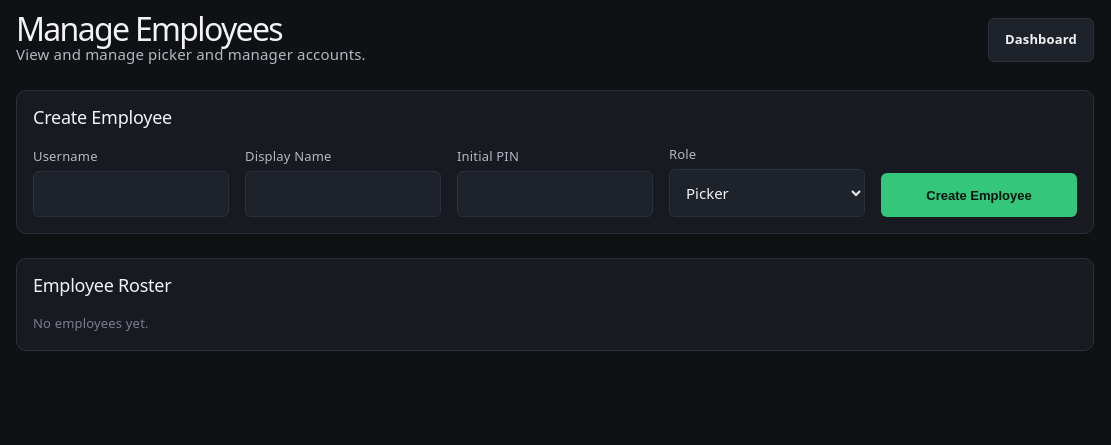
Test: AdminPage › creates a new employee and refreshes the roster to include it
Expected: the text "No employees yet." is shown, x1=33 y1=314 x2=149 y2=332
Type "newpicker" into the field labelled "Username" at (131, 194), box x1=33 y1=172 x2=229 y2=218
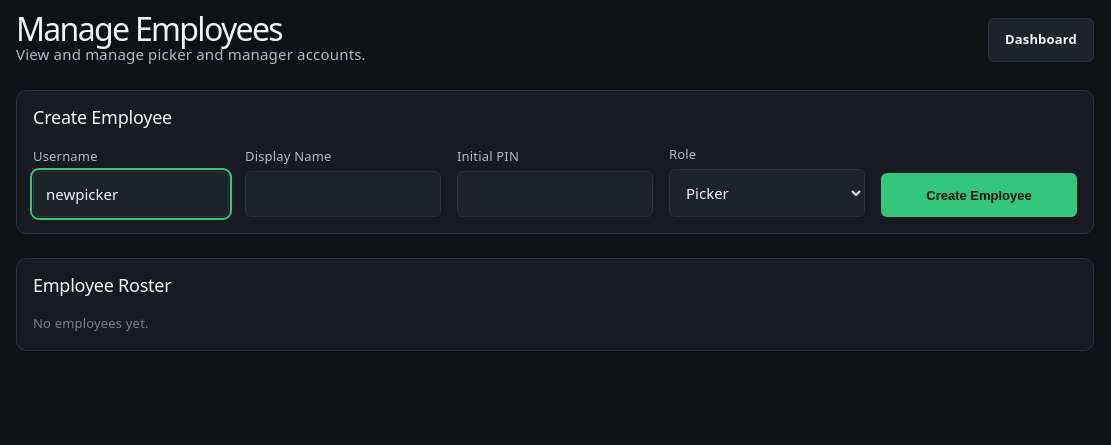
Type "New Picker" into the field labelled "Display Name" at (343, 194), box x1=245 y1=172 x2=441 y2=218
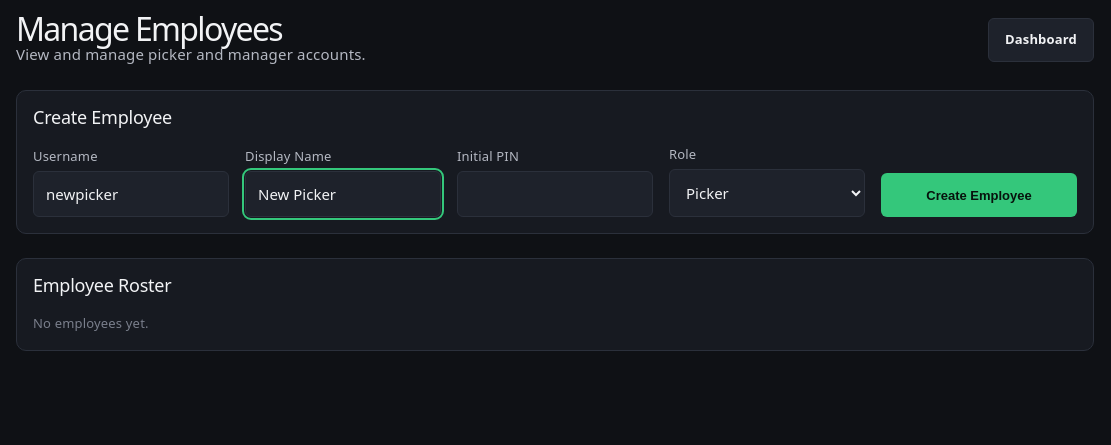
Type "1234" into the password field labelled "Initial PIN" at (555, 194), box x1=457 y1=172 x2=653 y2=218
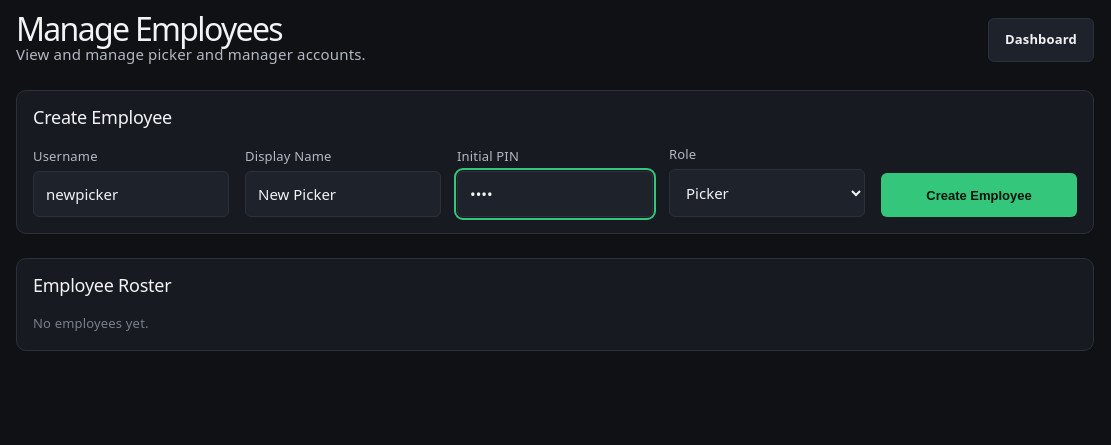
Select "Picker" in the dropdown labelled "Role" at (767, 194), box x1=669 y1=170 x2=865 y2=218
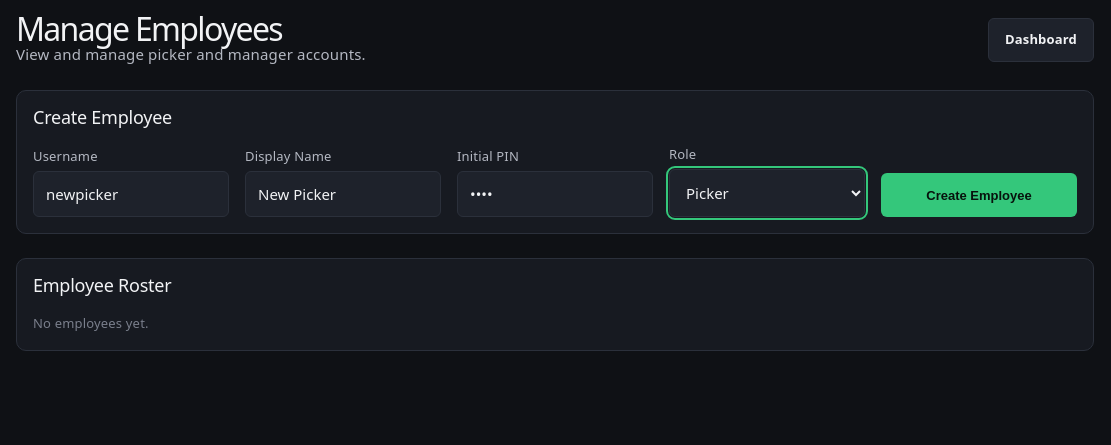
Click the button "Create Employee" at (979, 196), box x1=881 y1=174 x2=1077 y2=218
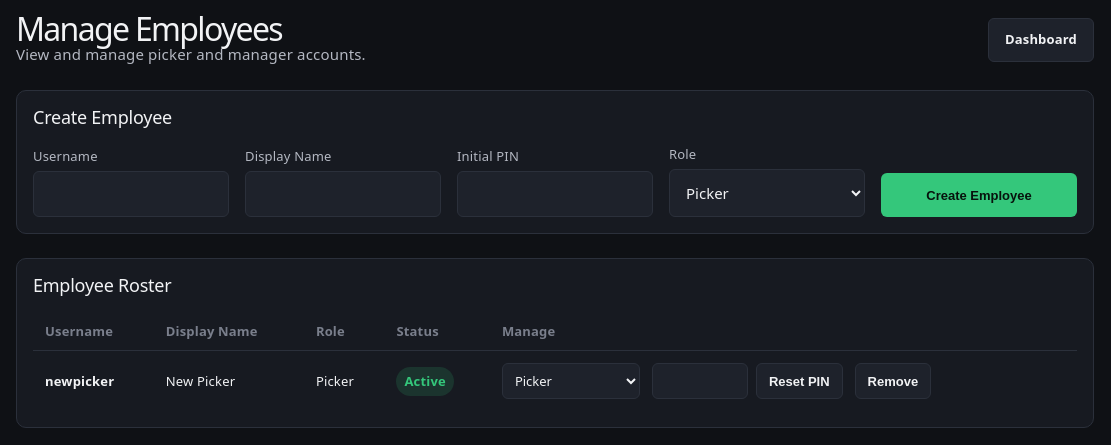
Now the text "New Picker" is shown, box x1=154 y1=351 x2=304 y2=412
